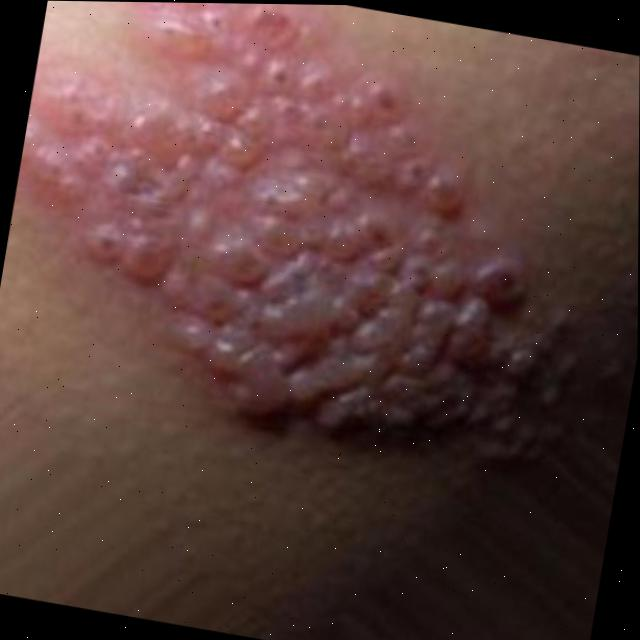Shingles: (0, 0, 627, 476)
